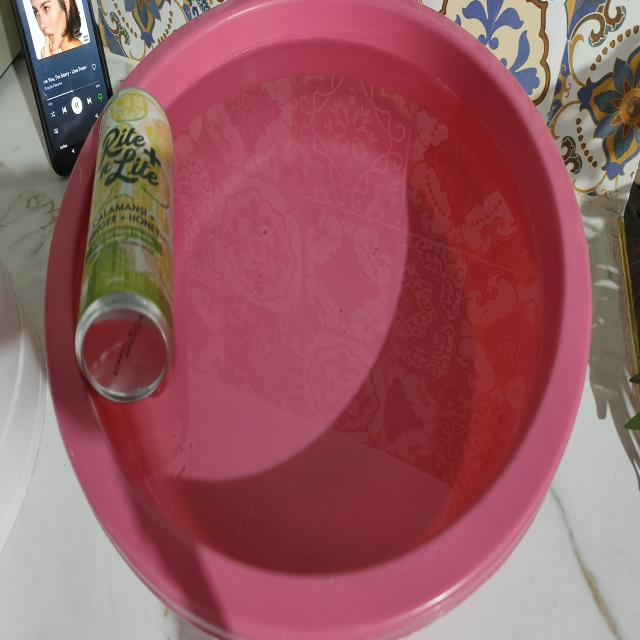Aluminum Can: (61, 75, 197, 422)
